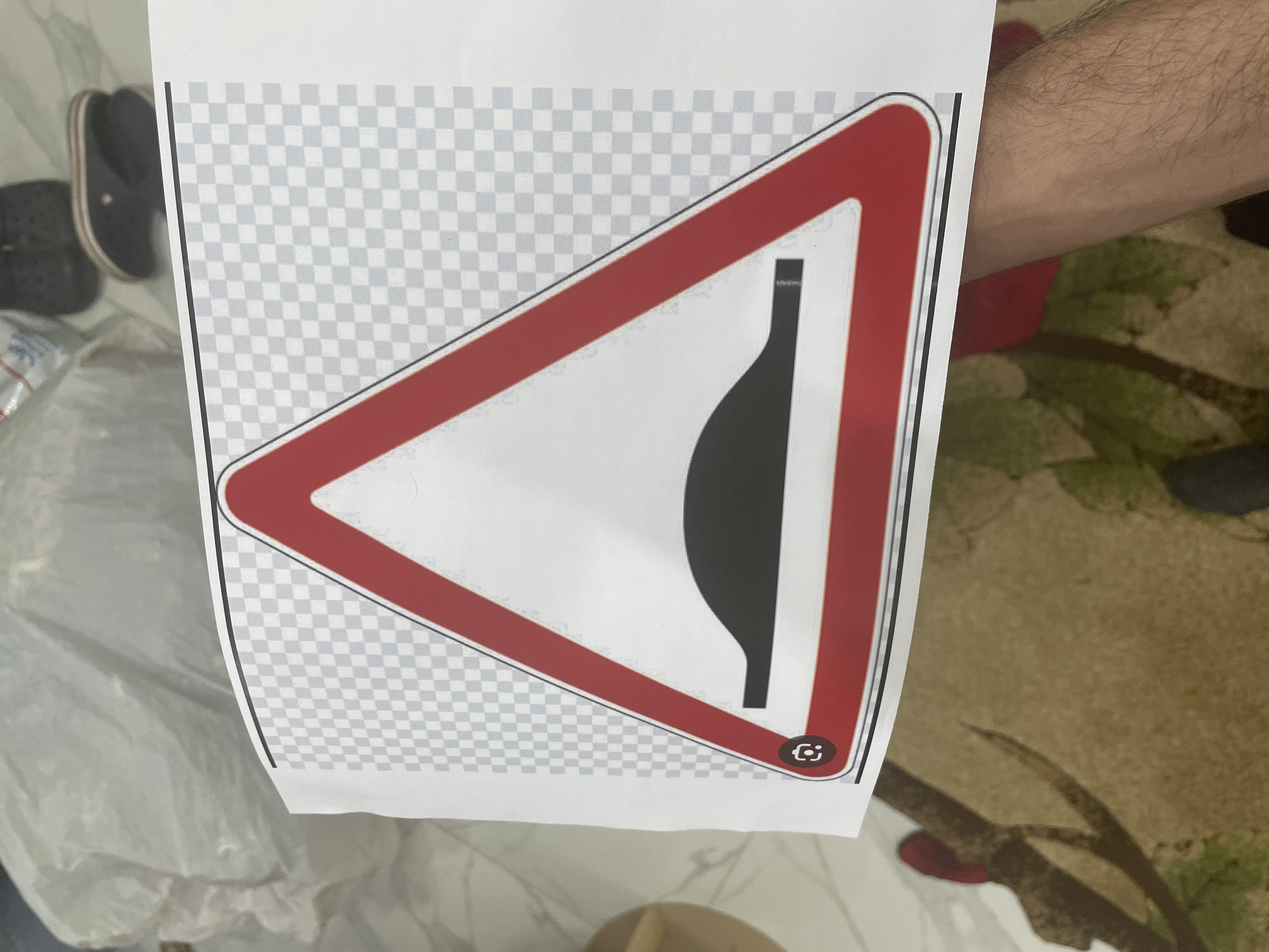Hump: (214, 166, 1172, 681)
